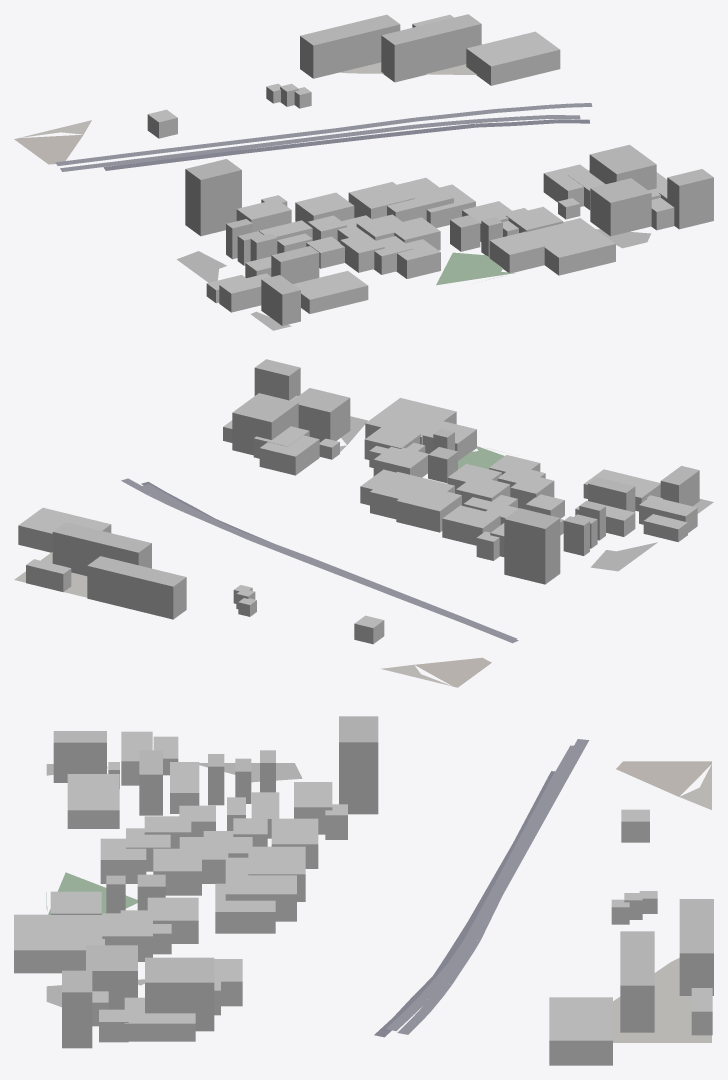
The model's file is 130_89_mid.glb.
The picture shows the model from 3 angles, top to bottom: view 1: azimuth 30°, elevation 25°; view 2: azimuth 150°, elevation 25°; view 3: azimuth 270°, elevation 25°; orthographic projection. The views are drawn at different scales.
Bounding box in the file's own units: 555 × 64.69 × 526.
